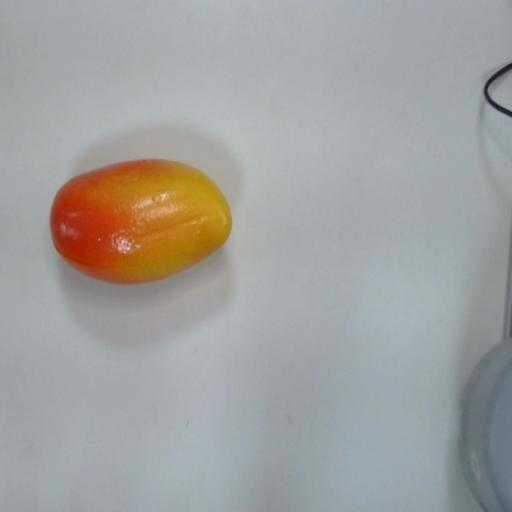Ripe: (52, 151, 247, 301)
